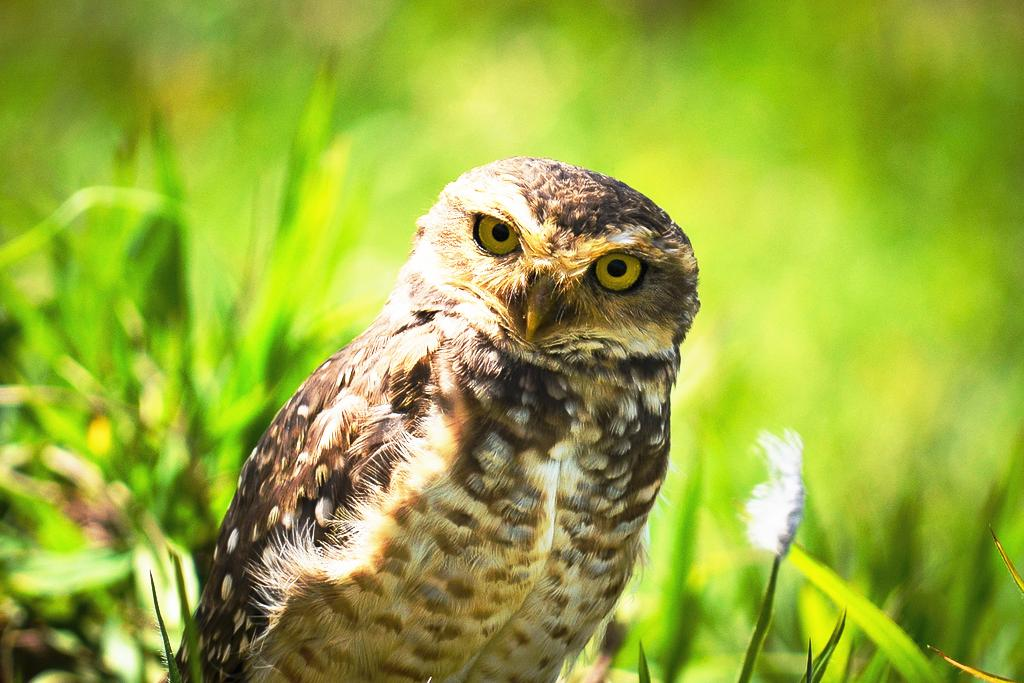Owl: (157, 156, 701, 683)
